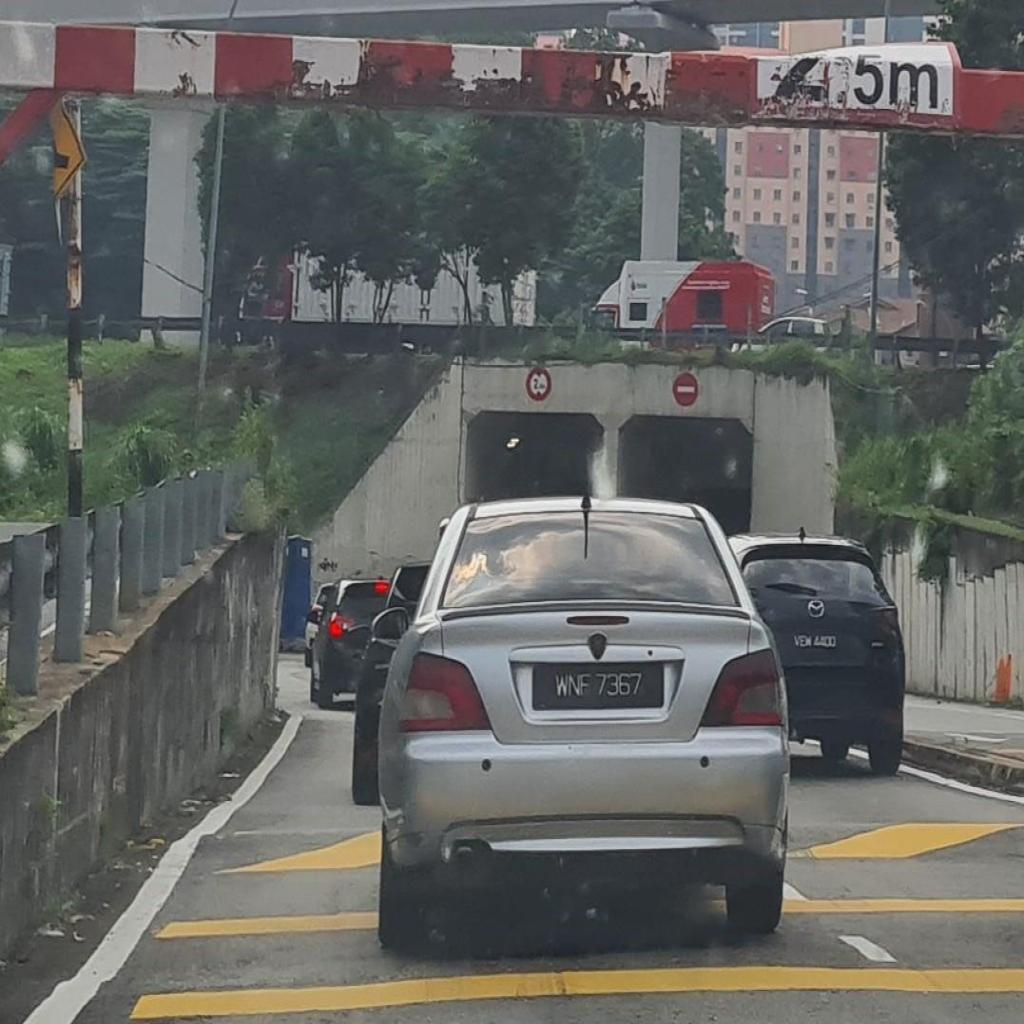car: (374, 497, 787, 945)
car plate: (531, 663, 663, 710)
